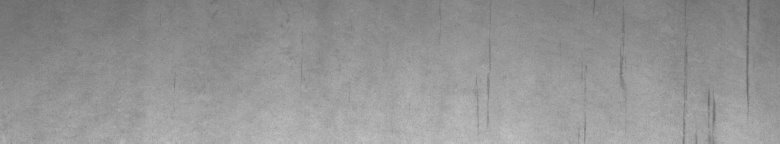ka: (584, 4, 753, 136)
